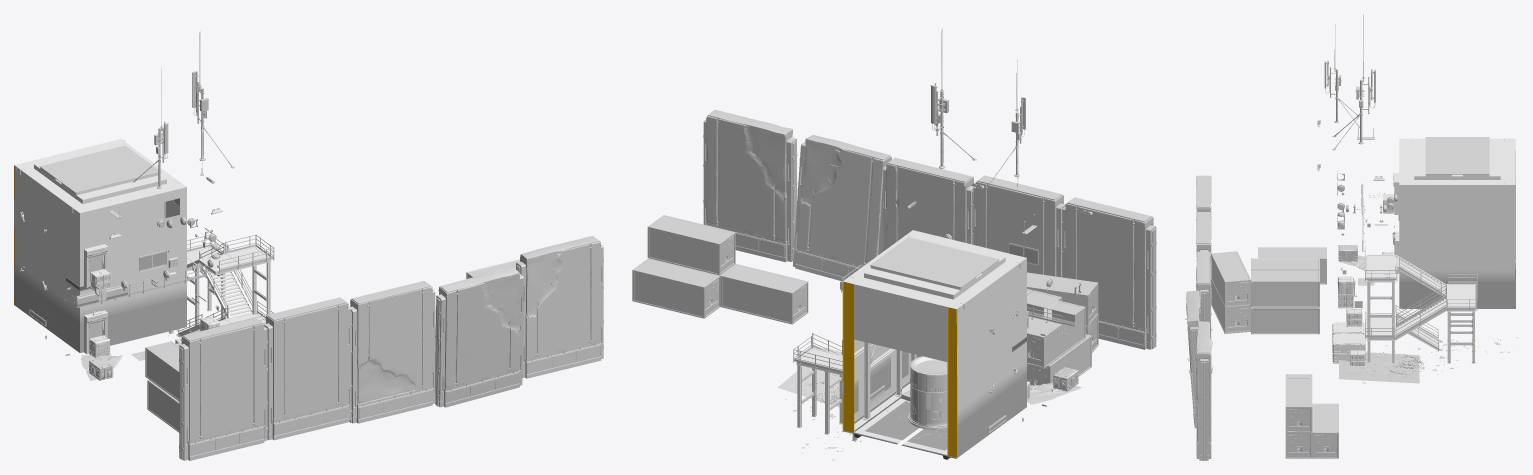
File: cell_174_118.fbx
3 views of the same model, side by side, from view 1: azimuth 30°, elevation 25°; view 2: azimuth 150°, elevation 25°; view 3: azimuth 270°, elevation 25° (orthographic). The views are drawn at different scales.
Parts seen in each view (by area): view 1: SM_H_Building_FutureTech_PrintArea_InterWall_02.mo.002, SM_H_Fence_Metal_1024x768_01.mo.283, SM_H_Fence_Metal_1024x768_01.mo.284, SM_H_Fence_Metal_1024x768_01D.mo.018, SM_H_Fence_Metal_1024x768_01C.mo.024, SM_H_Fence_Metal_1024x768_01C.mo.023, SM_H_WalkwaySystem_MetalSupport_06.mo, SM_Emissive_Plane_02.mo.224, SM_H_Industrial_Container_02.mo.250, SM_H_Industrial_Container_02.mo.252, SM_H_FutureTech_Furniture_BaseStation_03.mo.029, SM_H_FutureTech_Furniture_BaseStation_03.mo.030; view 2: SM_H_Building_FutureTech_PrintArea_InterWall_02.mo.002, SM_H_Fence_Metal_1024x768_01C.mo.023, SM_H_Fence_Metal_1024x768_01C.mo.024, SM_H_Fence_Metal_1024x768_01.mo.283, SM_H_Fence_Metal_1024x768_01D.mo.018, SM_H_Fence_Metal_1024x768_01.mo.284, SM_H_Industrial_Container_02.mo.262, SM_H_Industrial_Container_02.mo.260, SM_H_Industrial_Container_02.mo.264, SM_Emissive_Plane_02.mo.224, SM_H_Industrial_Container_02.mo.250, SM_H_Industrial_ISS_Rocket_01_04.mo.001 (+7 smaller); view 3: SM_H_Building_FutureTech_PrintArea_InterWall_02.mo.002, SM_H_WalkwaySystem_MetalSupport_06.mo, SM_H_Industrial_Container_02.mo.248, SM_Emissive_Plane_02.mo.224, SM_H_Fence_Metal_1024x768_01C.mo.023, SM_H_Industrial_Container_02.mo.251, SM_H_Industrial_Container_02.mo.247, SM_H_Industrial_Container_02.mo.260, SM_H_Industrial_Container_02.mo.264, SM_DECOR_GrassDebris_Dry_01_HD.mo.634, SM_H_Fence_Metal_1024x768_01C.mo.024, SM_H_Industrial_Container_02.mo.257 (+10 smaller).
Boxes of the visible parts, <box> form: SM_H_Building_FutureTech_PrintArea_InterWall_02.mo.002: <box>14,139,186,352</box>; SM_H_Fence_Metal_1024x768_01.mo.283: <box>179,318,266,460</box>; SM_H_Fence_Metal_1024x768_01.mo.284: <box>264,297,351,440</box>; SM_H_Fence_Metal_1024x768_01D.mo.018: <box>349,280,435,423</box>; SM_H_Fence_Metal_1024x768_01C.mo.024: <box>435,266,523,407</box>; SM_H_Fence_Metal_1024x768_01C.mo.023: <box>516,235,603,378</box>; SM_H_WalkwaySystem_MetalSupport_06.mo: <box>168,246,271,337</box>; SM_Emissive_Plane_02.mo.224: <box>39,145,160,193</box>; SM_H_Industrial_Container_02.mo.250: <box>145,341,179,401</box>; SM_H_Industrial_Container_02.mo.252: <box>147,380,179,432</box>; SM_H_FutureTech_Furniture_BaseStation_03.mo.029: <box>192,31,234,175</box>; SM_H_FutureTech_Furniture_BaseStation_03.mo.030: <box>132,67,168,188</box>; SM_H_Building_FutureTech_PrintArea_InterWall_02.mo.002: <box>840,230,1027,459</box>; SM_H_Fence_Metal_1024x768_01C.mo.023: <box>703,110,797,262</box>; SM_H_Fence_Metal_1024x768_01C.mo.024: <box>793,135,891,281</box>; SM_H_Fence_Metal_1024x768_01.mo.283: <box>1062,197,1156,349</box>; SM_H_Fence_Metal_1024x768_01D.mo.018: <box>883,157,974,251</box>; SM_H_Fence_Metal_1024x768_01.mo.284: <box>973,175,1065,277</box>; SM_H_Industrial_Container_02.mo.262: <box>720,264,808,324</box>; SM_H_Industrial_Container_02.mo.260: <box>647,215,735,275</box>; SM_H_Industrial_Container_02.mo.264: <box>632,258,720,318</box>; SM_Emissive_Plane_02.mo.224: <box>870,237,999,287</box>; SM_H_Industrial_Container_02.mo.250: <box>1027,300,1085,368</box>; SM_H_Industrial_ISS_Rocket_01_04.mo.001: <box>909,356,947,427</box>; SM_H_Building_FutureTech_PrintArea_InterWall_02.mo.002: <box>1398,138,1515,308</box>; SM_H_WalkwaySystem_MetalSupport_06.mo: <box>1366,254,1475,363</box>; SM_H_Industrial_Container_02.mo.248: <box>1251,270,1319,307</box>; SM_Emissive_Plane_02.mo.224: <box>1425,137,1489,174</box>; SM_H_Fence_Metal_1024x768_01C.mo.023: <box>1196,321,1213,460</box>; SM_H_Industrial_Container_02.mo.251: <box>1251,307,1319,334</box>; SM_H_Industrial_Container_02.mo.247: <box>1211,251,1250,307</box>; SM_H_Industrial_Container_02.mo.260: <box>1285,378,1312,432</box>; SM_H_Industrial_Container_02.mo.264: <box>1312,403,1338,458</box>; SM_DECOR_GrassDebris_Dry_01_HD.mo.634: <box>1339,352,1419,383</box>; SM_H_Fence_Metal_1024x768_01C.mo.024: <box>1185,290,1202,428</box>; SM_H_Industrial_Container_02.mo.257: <box>1211,280,1250,333</box>.
Bounding box in the file's own units: 40.12 × 31.67 × 29.73.
